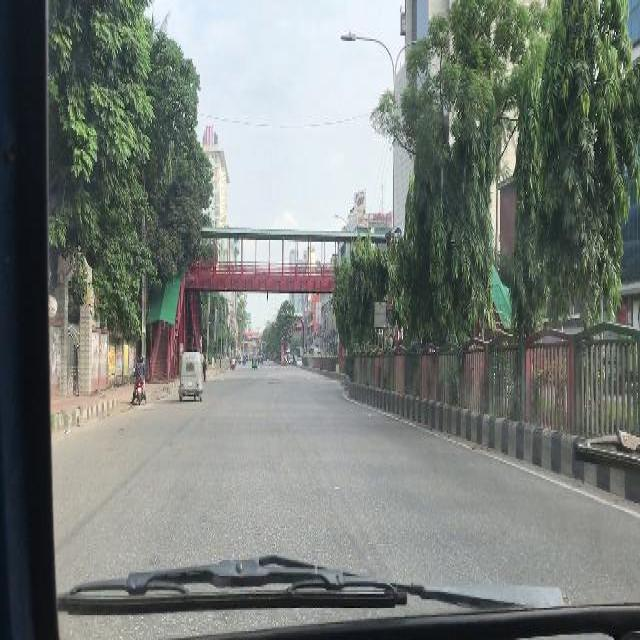bus: (308, 346, 320, 354), (296, 344, 302, 353)
car: (294, 358, 302, 364), (257, 356, 263, 362)
motorbike: (133, 364, 145, 404)
three wheelers -CNG-: (179, 354, 203, 400), (250, 356, 258, 366)
